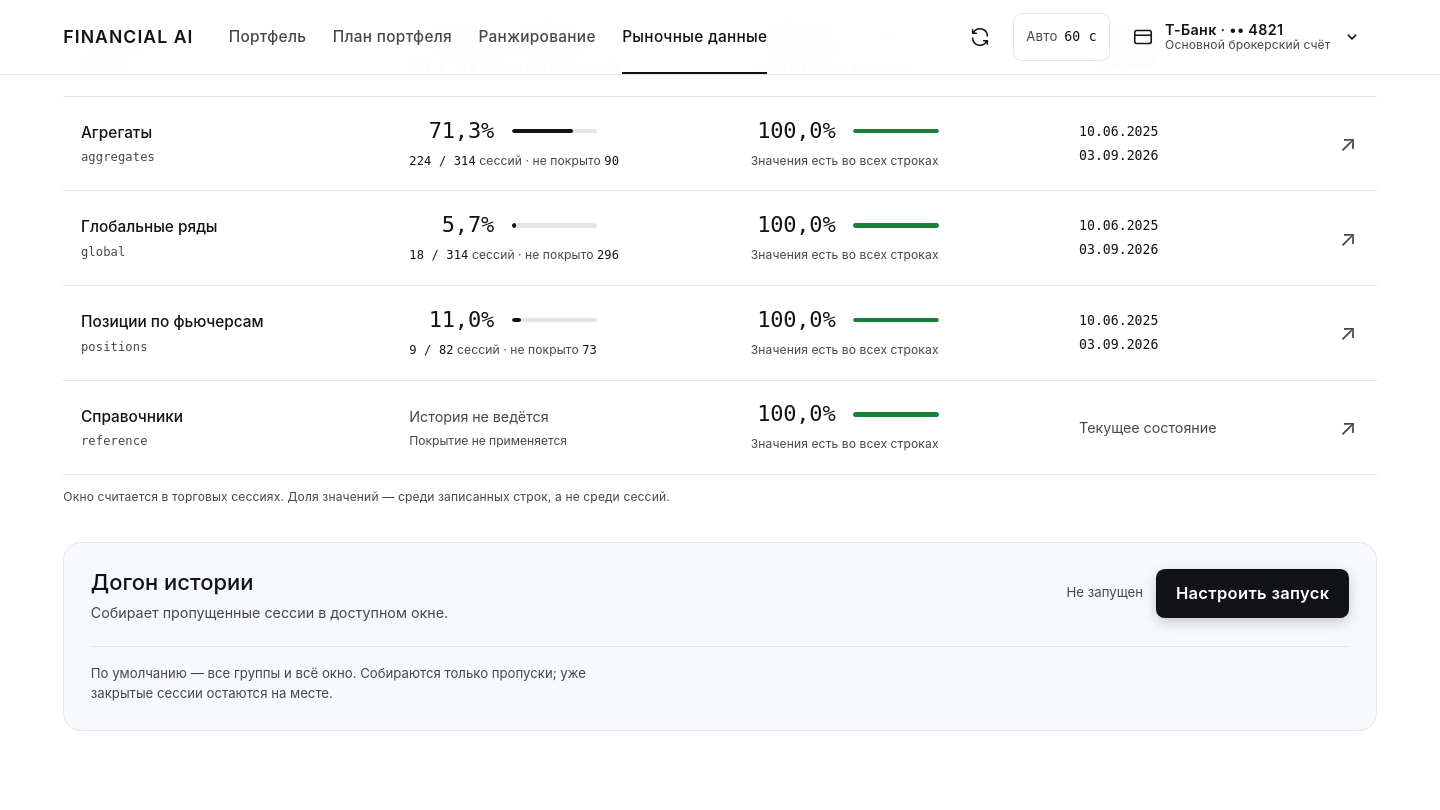
пустое хранилище и полнота › догонять нечего: спокойное подтверждение, новый прогон не запущен
(page scrolled)
Click the button "Настроить запуск" at (1253, 593), box top-left (1156, 569), bottom-right (1349, 618)
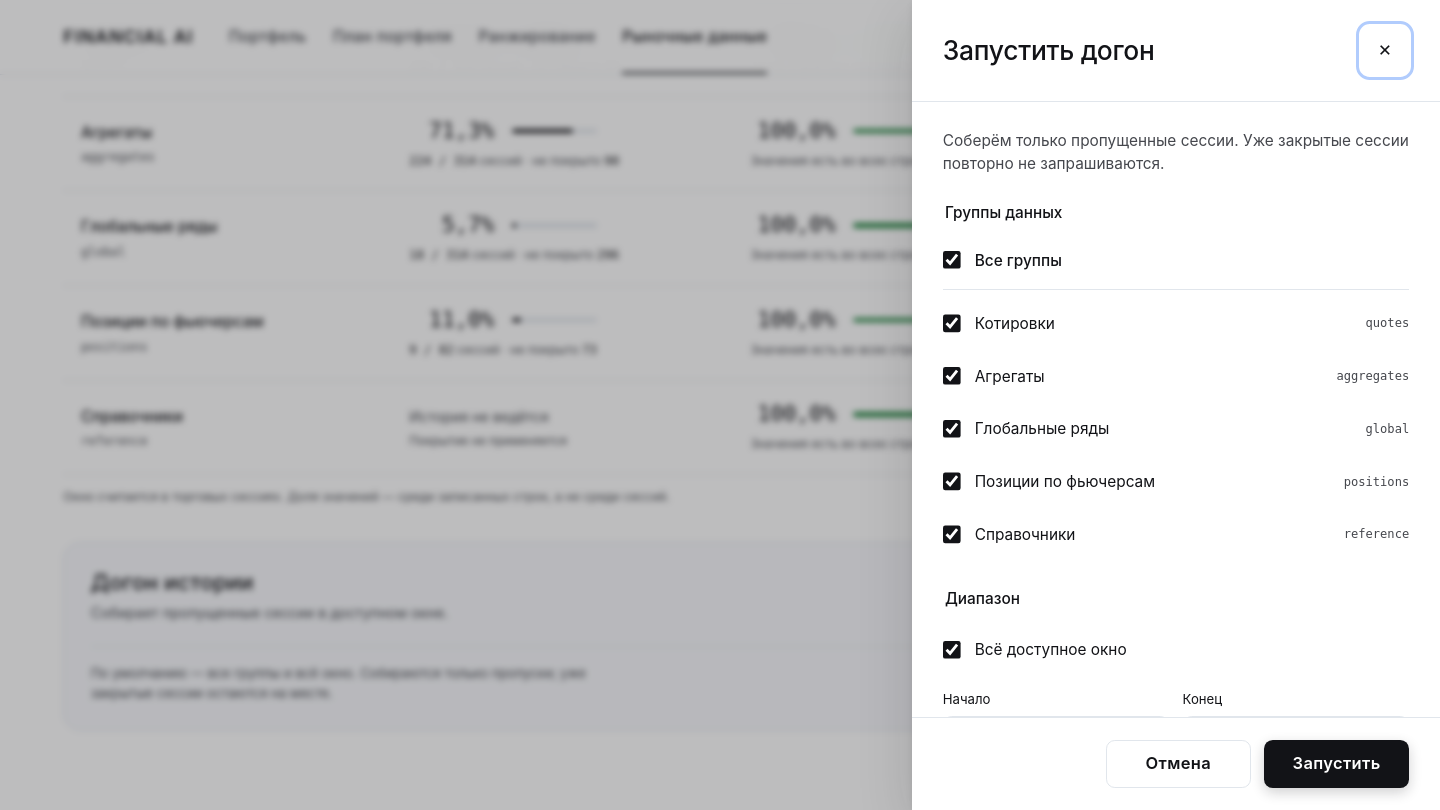
Click the button "Запустить" at (1337, 764), box top-left (1264, 740), bottom-right (1409, 788)
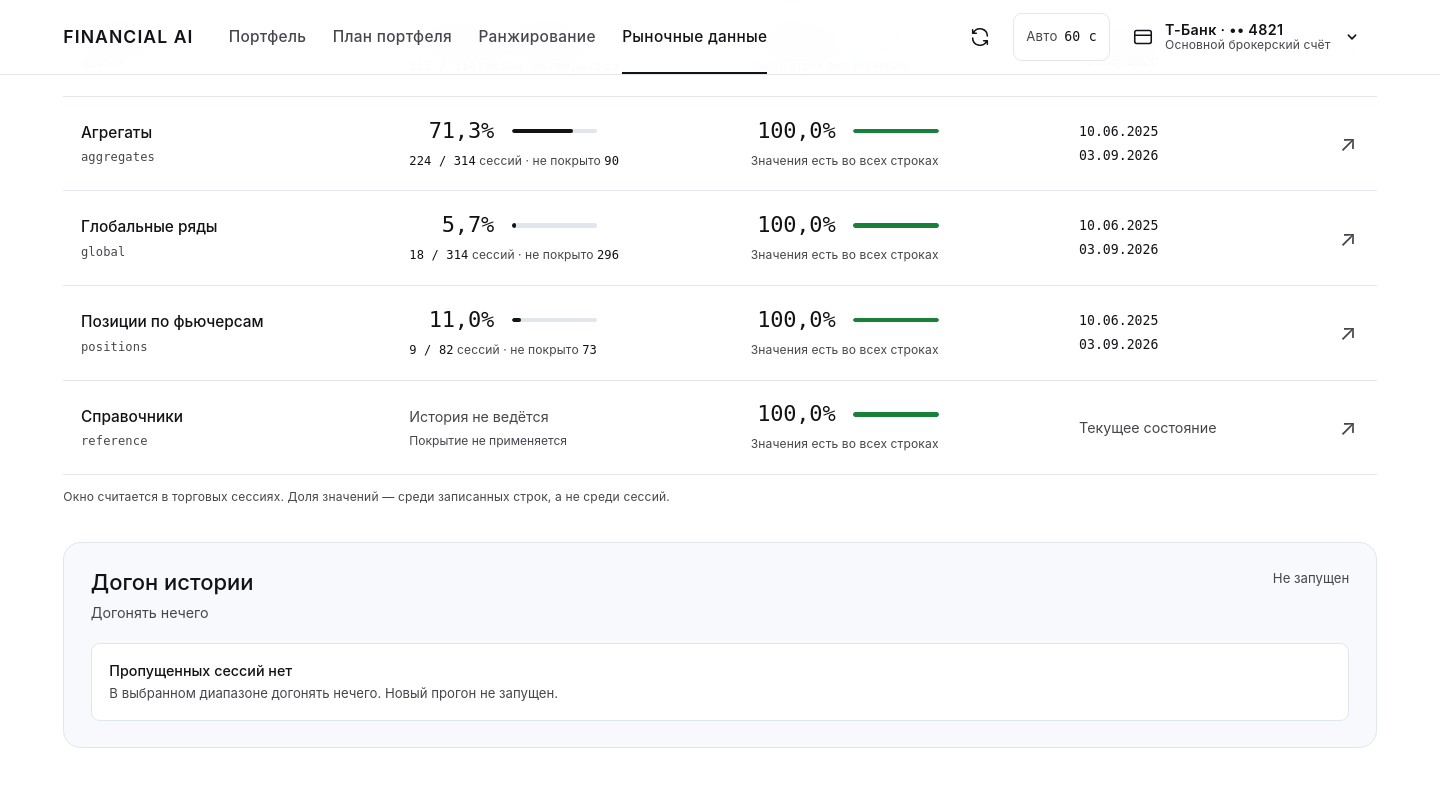
Result: the text "Пропущенных сессий нет" is shown at top-left (109, 662), bottom-right (292, 679)
Result: the text "Догонять нечего" is shown at top-left (91, 604), bottom-right (209, 621)
Result: the button "Настроить запуск" is gone
